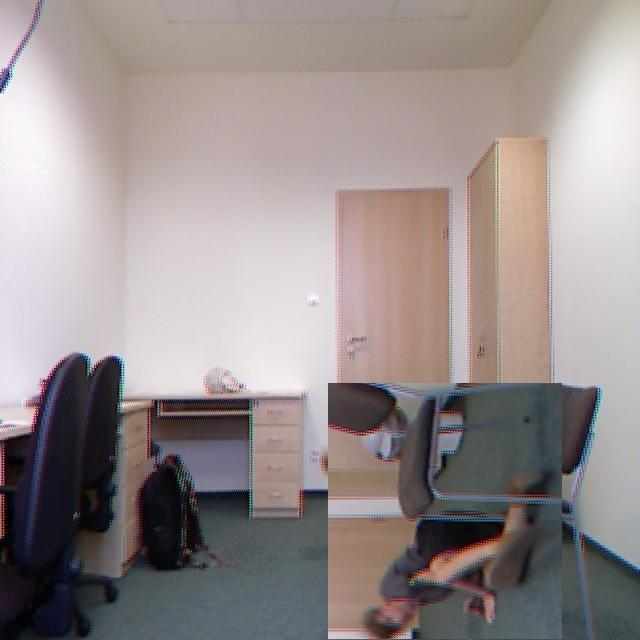Fall: (261, 416, 598, 628)
